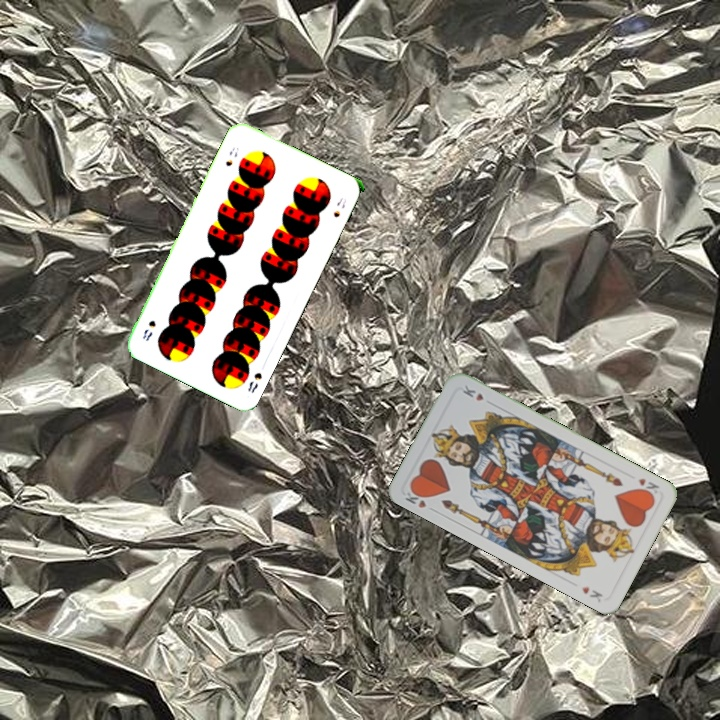HK: (401, 484, 438, 515), (634, 474, 662, 500)
S8: (244, 368, 265, 396), (221, 143, 242, 169)
